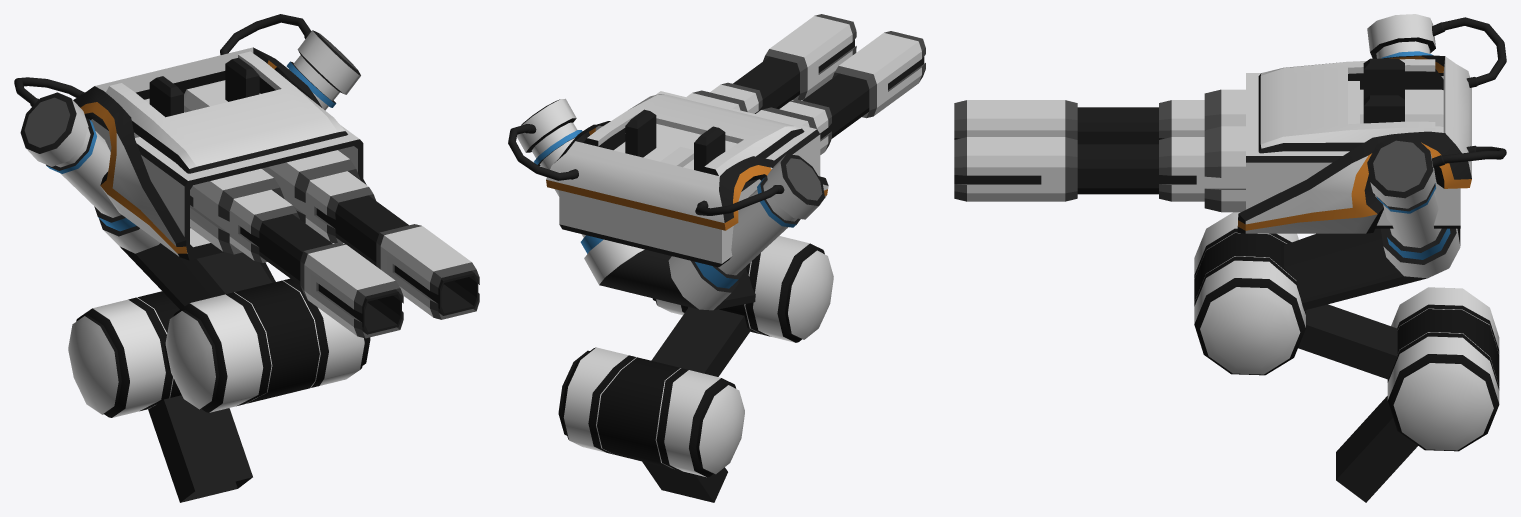
The model's file is tower_cannon_upgrade1_asset.fbx.
The picture shows the model from 3 angles, left to right: view 1: azimuth 30°, elevation 25°; view 2: azimuth 150°, elevation 25°; view 3: azimuth 270°, elevation 25°; orthographic projection. The views are drawn at different scales.
Visible parts, largest first — view 1: polySurface103, cannon_bottom, polySurface6; view 2: polySurface103, cannon_bottom, polySurface6; view 3: polySurface103, cannon_bottom.
Boxes of the visible parts, <box> form: polySurface103: <box>14,14,479,412</box>; cannon_bottom: <box>68,291,252,502</box>; polySurface6: <box>165,311,215,409</box>; polySurface103: <box>508,14,925,342</box>; cannon_bottom: <box>558,307,751,502</box>; polySurface6: <box>788,250,833,339</box>; polySurface103: <box>954,14,1506,375</box>; cannon_bottom: <box>1298,287,1499,502</box>.
Size of the model in its own units: 43.14 by 52.25 by 63.16.
